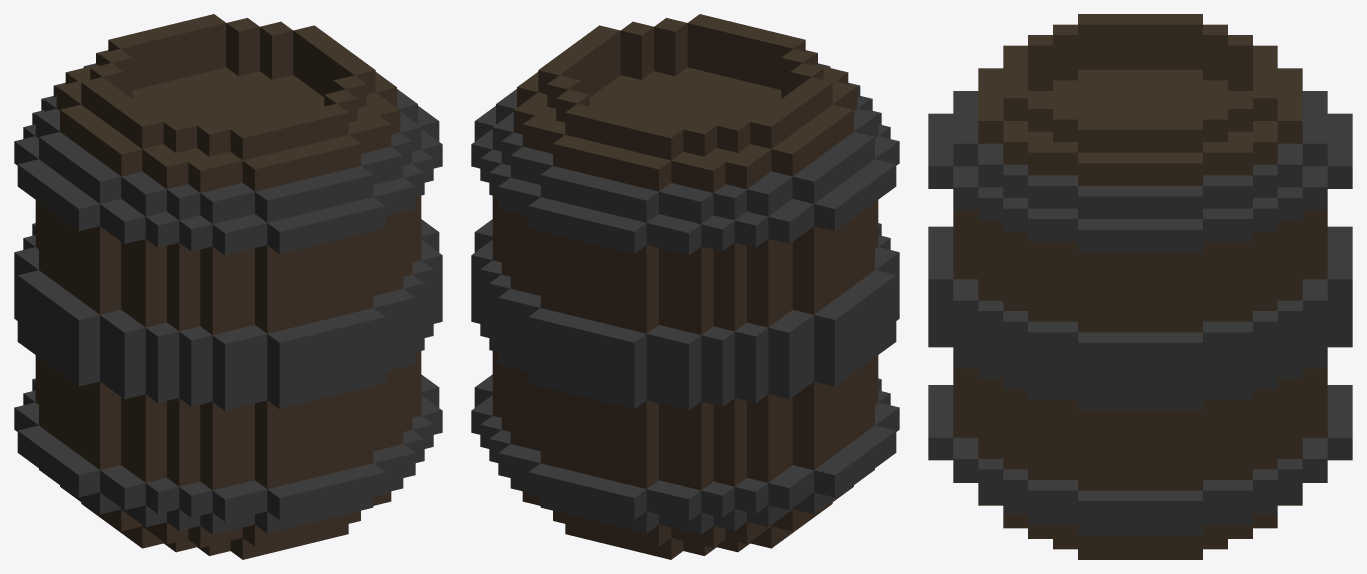
The model's file is Barril.obj.
3 renders of one model, left to right at view 1: azimuth 30°, elevation 25°; view 2: azimuth 150°, elevation 25°; view 3: azimuth 270°, elevation 25°, orthographic.
Bounding box in the file's own units: 1.7 × 1.9 × 1.7.
Materials: 1 (1 with a texture image).
